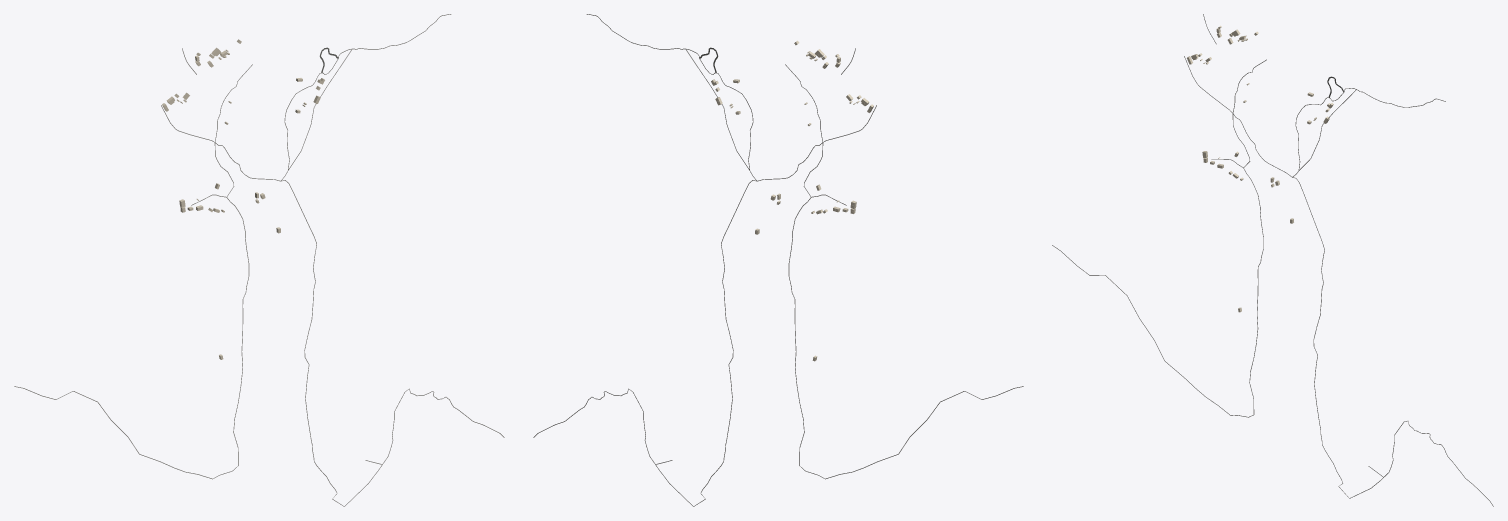
File: historic-palestine-09_19_3509_3139.glb
The picture shows the model from 3 angles, left to right: view 1: azimuth 30°, elevation 25°; view 2: azimuth 150°, elevation 25°; view 3: azimuth 330°, elevation 25°; orthographic projection. The views are drawn at different scales.
Parts seen in each view (by area): view 1: Road .008; view 2: Road .008; view 3: Road .008.
Boxes of the visible parts, bbox=[...] form: Road .008: bbox=[14, 197, 249, 479]; Road .008: bbox=[788, 197, 1023, 479]; Road .008: bbox=[1052, 168, 1263, 417].
Bounding box in the file's own units: 1132 × 1100 × 8.7.
